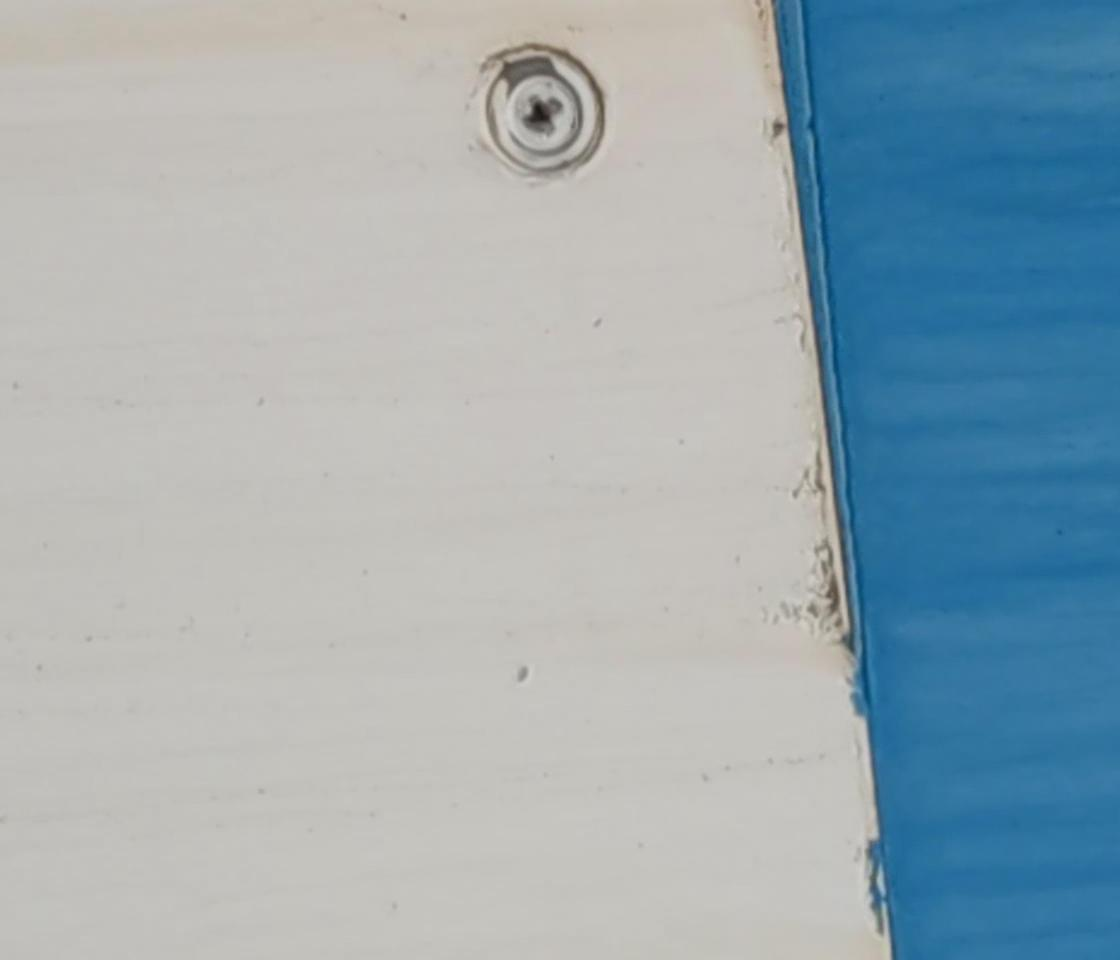rivet_damage: (468, 37, 610, 184)
